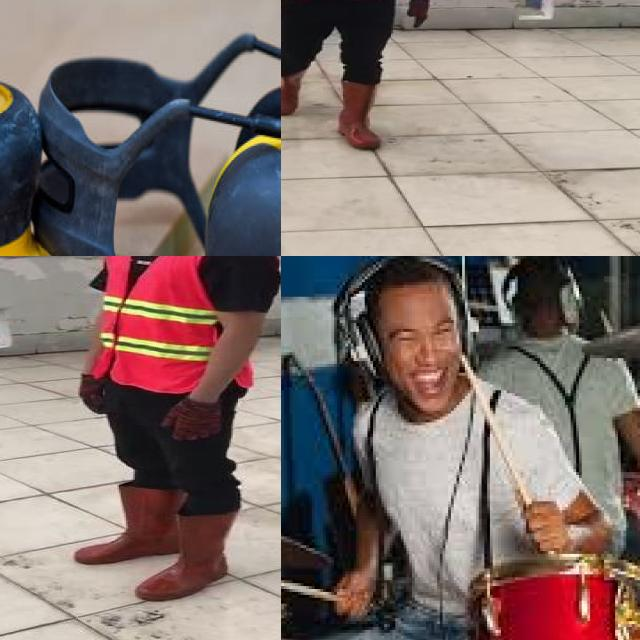Ear-protection: (37, 23, 281, 256), (334, 308, 384, 376), (454, 308, 482, 361), (554, 276, 582, 323), (504, 288, 520, 323)
boots: (137, 513, 238, 600), (74, 487, 184, 565), (338, 77, 384, 150), (281, 67, 306, 116)
hand_glove: (158, 398, 226, 442), (78, 374, 106, 416)
person: (281, 256, 615, 640), (55, 256, 281, 606), (281, 0, 441, 162)
vest: (92, 256, 257, 393)
